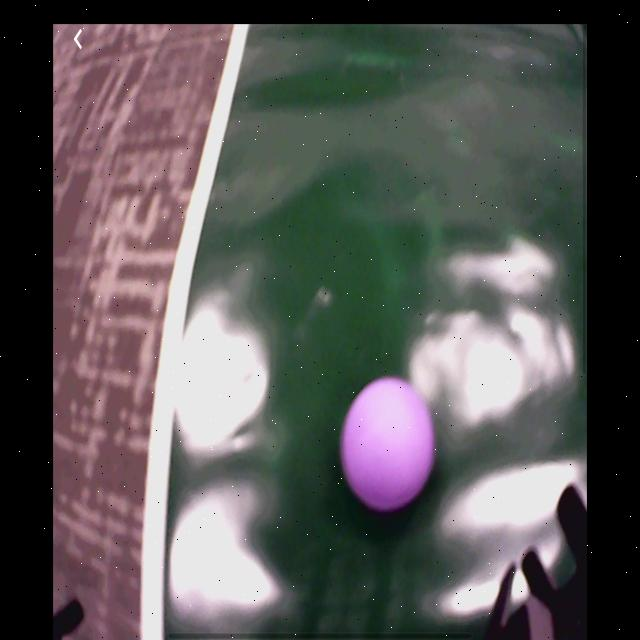ball: (342, 377, 435, 514)
